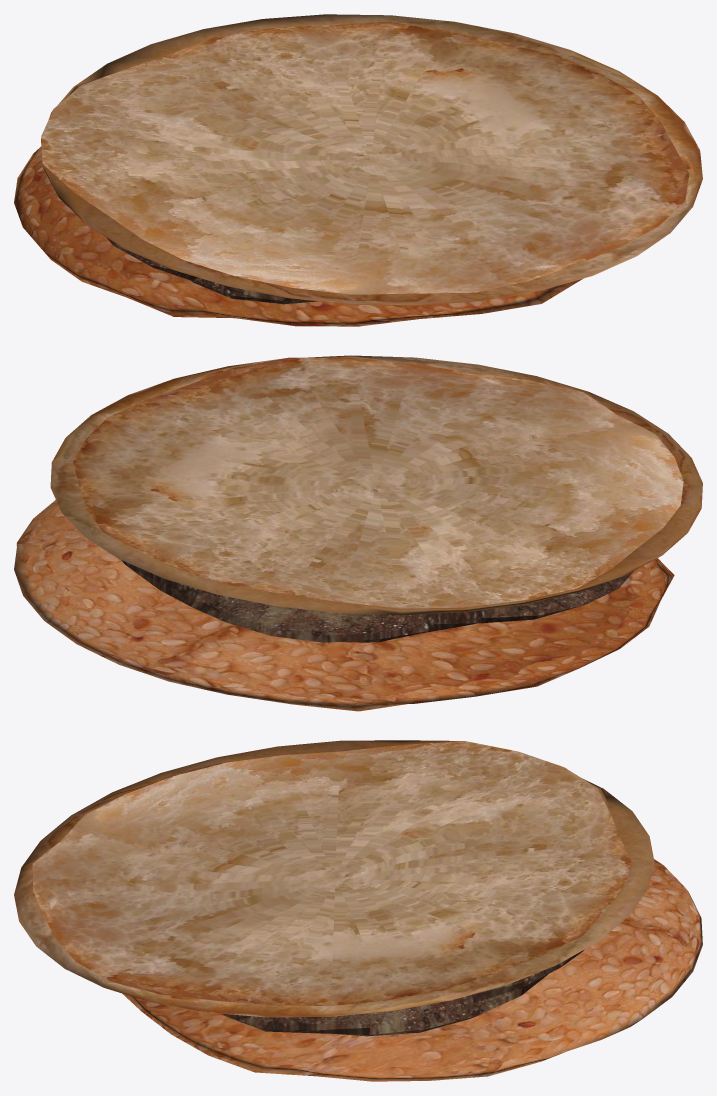
The model's file is hamburger.dae.
3 views of the same model, one above another, from view 1: azimuth 30°, elevation 25°; view 2: azimuth 150°, elevation 25°; view 3: azimuth 270°, elevation 25° (orthographic). The views are drawn at different scales.
Visible parts, largest first — view 1: BunBottom, BunTop, Hamburger; view 2: BunBottom, BunTop, Hamburger; view 3: BunBottom, BunTop, Hamburger.
Boxes of the visible parts, bbox=[...] form: BunBottom: bbox=[41, 14, 702, 305]; BunTop: bbox=[14, 146, 582, 326]; Hamburger: bbox=[106, 237, 317, 304]; BunBottom: bbox=[50, 355, 702, 615]; BunTop: bbox=[14, 500, 674, 711]; Hamburger: bbox=[121, 560, 633, 642]; BunBottom: bbox=[14, 740, 654, 1017]; BunTop: bbox=[122, 859, 702, 1081]; Hamburger: bbox=[221, 949, 584, 1036].
Bounding box in the file's own units: 2.78 × 2.96 × 0.3884.
Materials: 3 (3 with a texture image).
